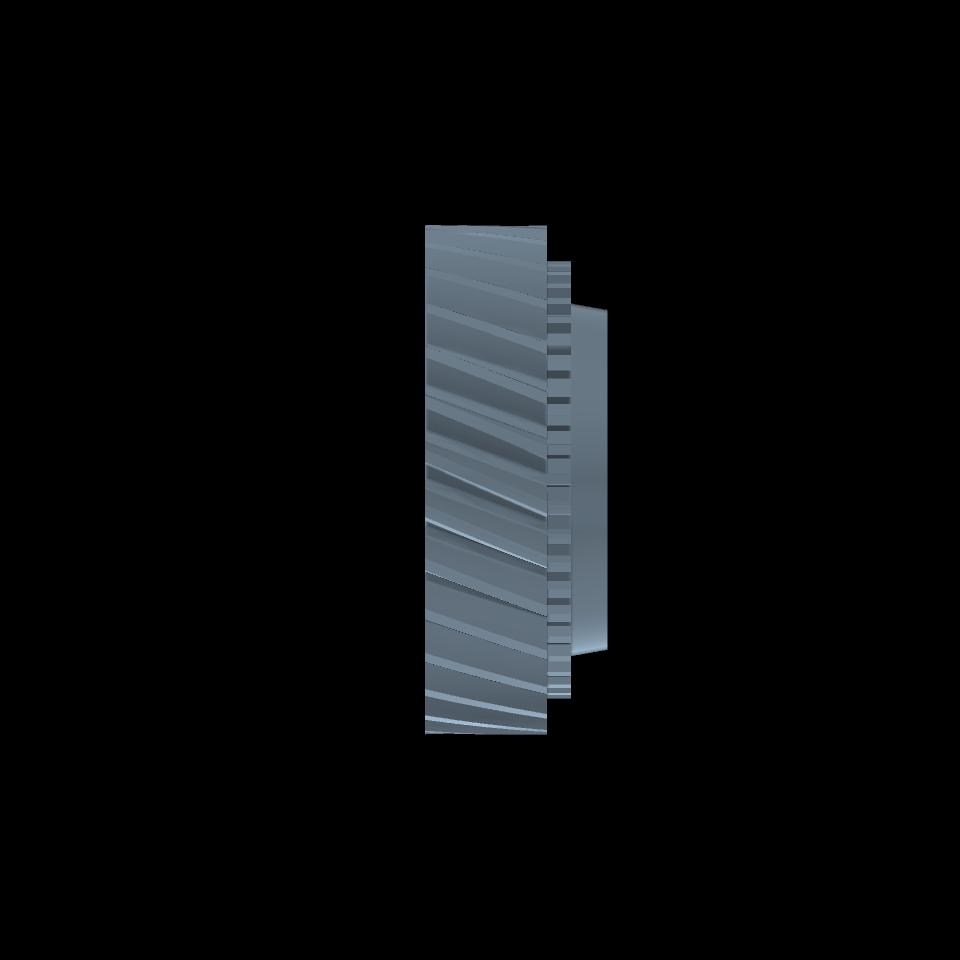Helical: (425, 225, 547, 733)
Straight: (548, 262, 570, 696)
